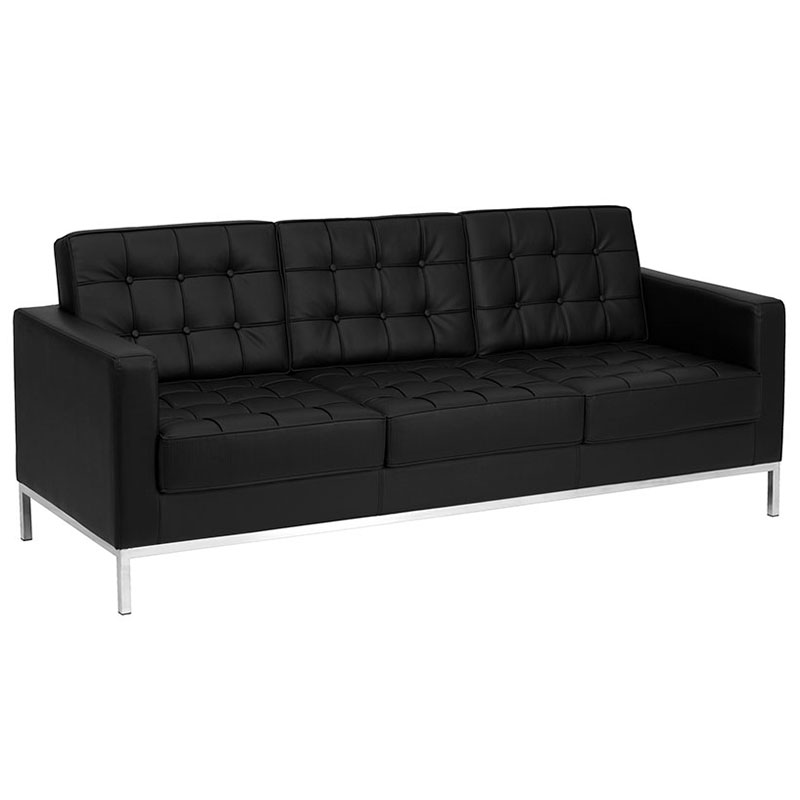chairs: (3, 206, 800, 616)
